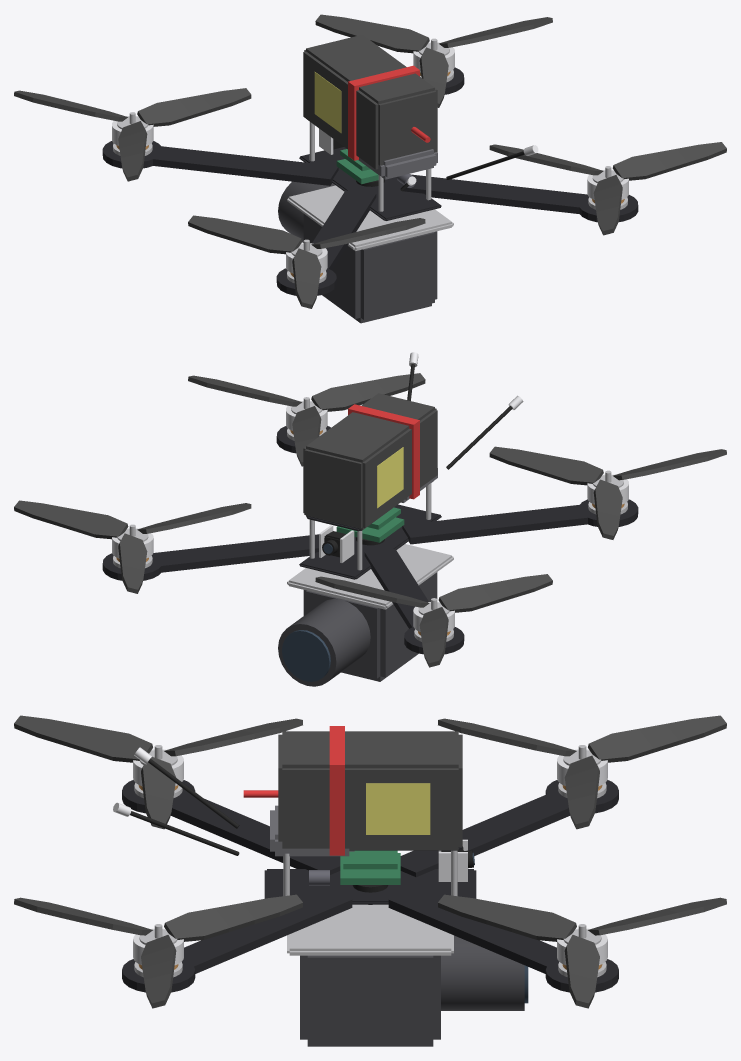
File: lifter10.glb
3 renders of one model, top to bottom at view 1: azimuth 30°, elevation 25°; view 2: azimuth 150°, elevation 25°; view 3: azimuth 270°, elevation 25°, orthographic. The views are drawn at different scales.
Parts seen in each view (by area): view 1: body, prop_FL, prop_RL, prop_RR, prop_FR; view 2: body, prop_FL, prop_RL, prop_FR, prop_RR, cam_mount; view 3: body, prop_FL, prop_FR, prop_RR, prop_RL, cam_mount.
Boxes of the visible parts, left/top/right/bottom form: body: left=102, top=34, right=638, bottom=323; prop_FL: left=14, top=88, right=384, bottom=186; prop_RL: left=188, top=215, right=425, bottom=308; prop_RR: left=489, top=142, right=726, bottom=235; prop_FR: left=315, top=14, right=552, bottom=107; body: left=102, top=352, right=638, bottom=686; prop_FL: left=315, top=537, right=552, bottom=667; prop_RL: left=489, top=446, right=726, bottom=539; prop_FR: left=14, top=500, right=251, bottom=593; prop_RR: left=188, top=373, right=425, bottom=466; cam_mount: left=319, top=525, right=354, bottom=562; body: left=113, top=726, right=618, bottom=1046; prop_FL: left=352, top=715, right=726, bottom=904; prop_FR: left=438, top=894, right=726, bottom=1008; prop_RR: left=14, top=894, right=302, bottom=1008; prop_RL: left=14, top=715, right=302, bottom=829; cam_mount: left=438, top=839, right=467, bottom=881.
Bounding box in the file's own units: 0.525 × 0.2405 × 0.5552.
